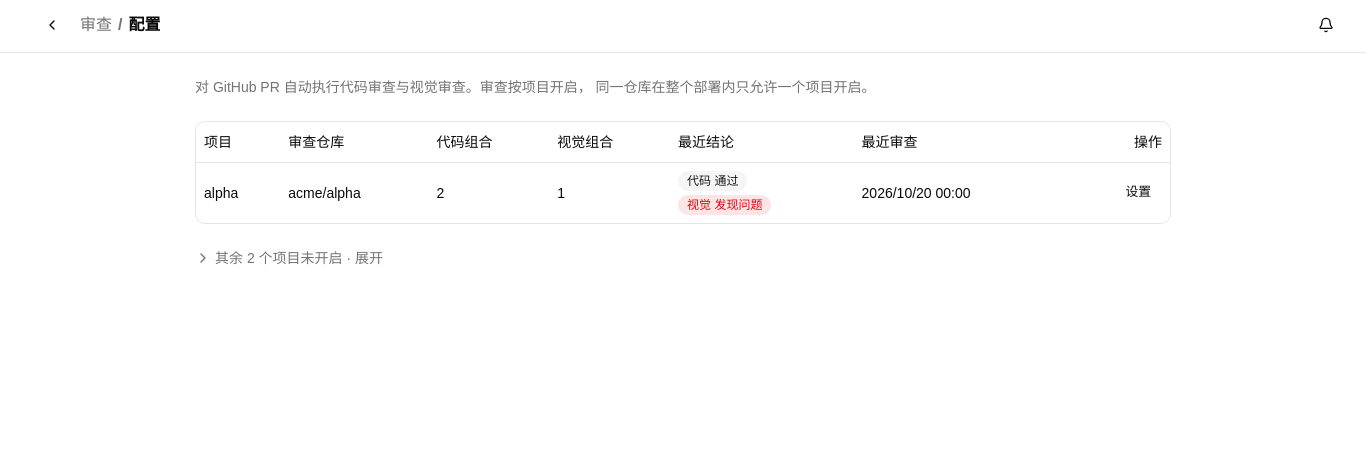
ReviewConfigPage › 已开启在上，未开启折叠为「其余 N 个项目未开启 · 展开」
Expected: the text "alpha" is shown, [204,184,238,200]
Expected: the text "acme/alpha" is shown, [280,162,429,222]
Step 1. Click the button "其余 2 个项目未开启 · 展开" → (289, 258), box [195,248,383,268]
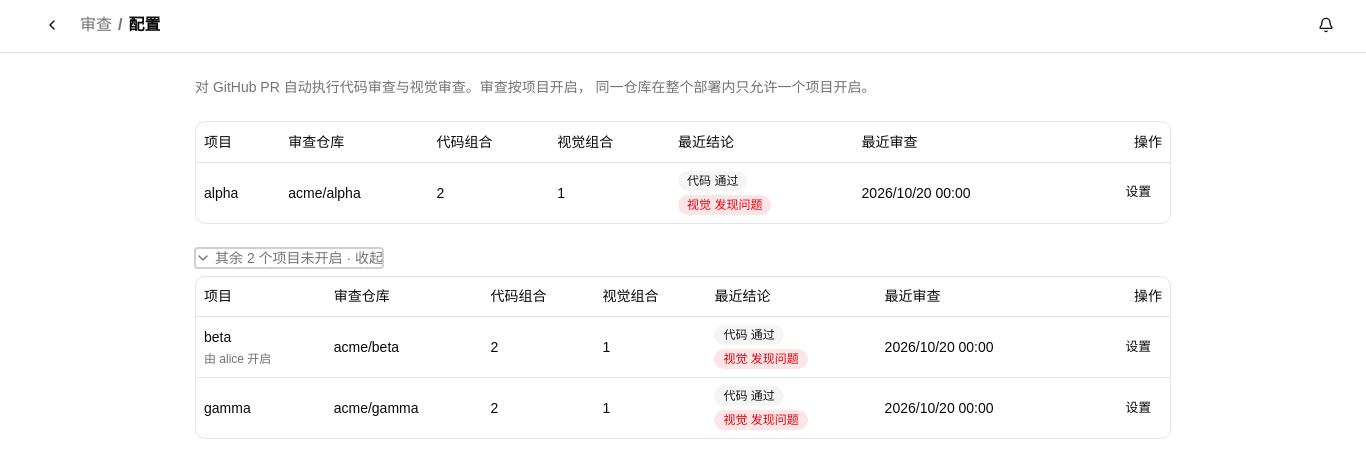
Now the text "beta" is shown, box [204,329,231,345]
Now the text "gamma" is shown, box [204,400,251,416]
Now the text "由 alice 开启" is shown, box [204,351,271,367]
